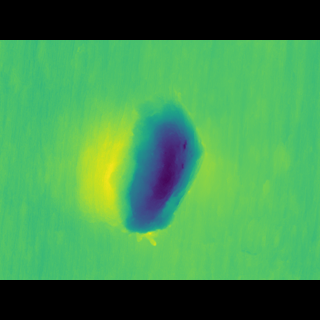Loch: (103, 101, 214, 228)
